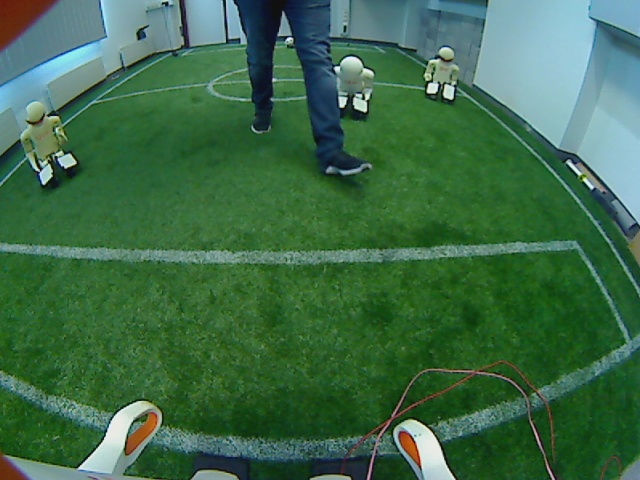ball: (282, 33, 300, 52)
robot: (14, 96, 85, 194), (319, 49, 376, 119), (421, 45, 464, 108)
